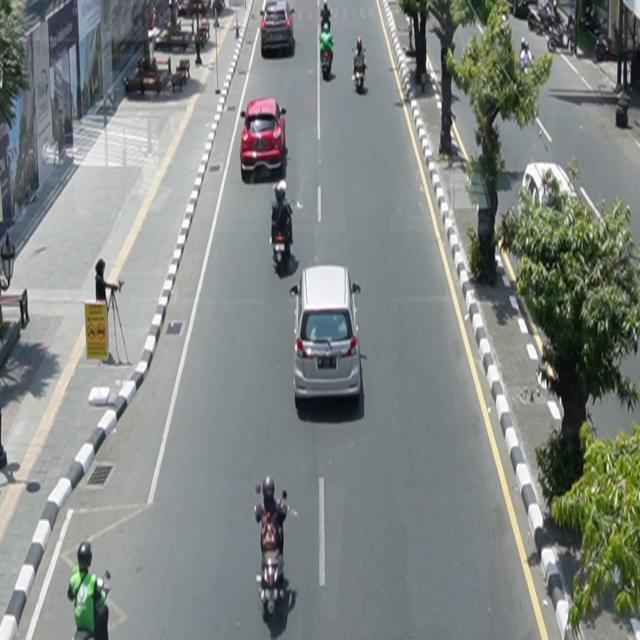car: (290, 264, 363, 404), (241, 98, 288, 175), (261, 1, 296, 58)
